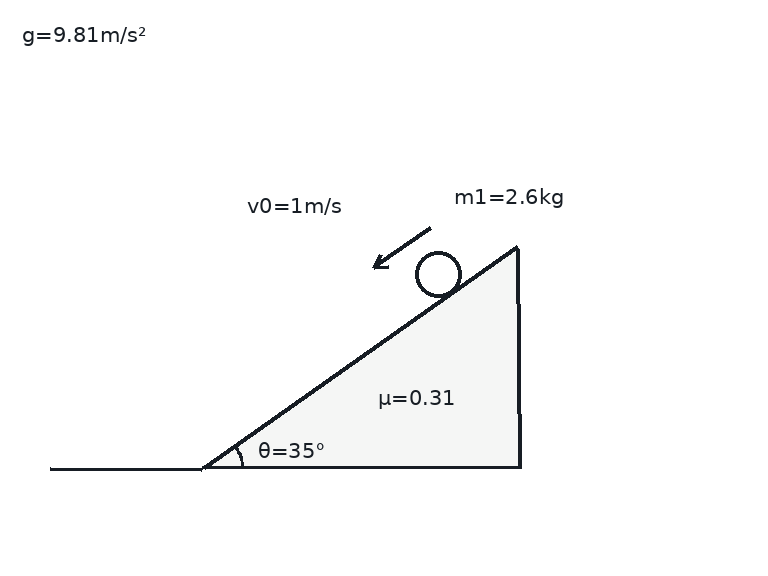ball: (413, 249, 463, 299)
ramp: (200, 245, 519, 470)
